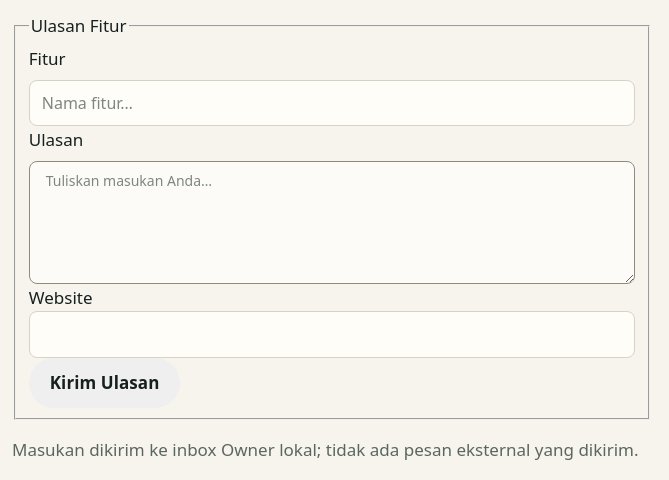
it: Prompt 03 — form simulasi › mengirim data fiktif dengan idempotency key dan menampilkan sukses
Type "Fitur contoh" into the field labelled "Fitur" at point(332, 103), box [29,80,635,126]
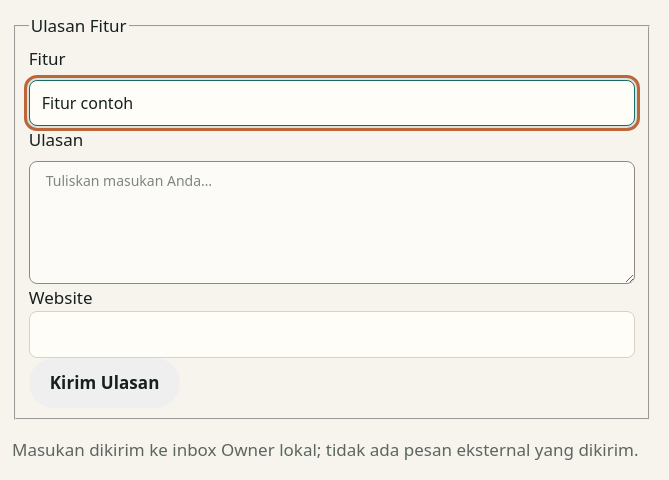
Type "Ulasan fiktif untuk pengujian lokal." into the text box labelled "Ulasan" at point(332, 222), box [29,161,635,284]
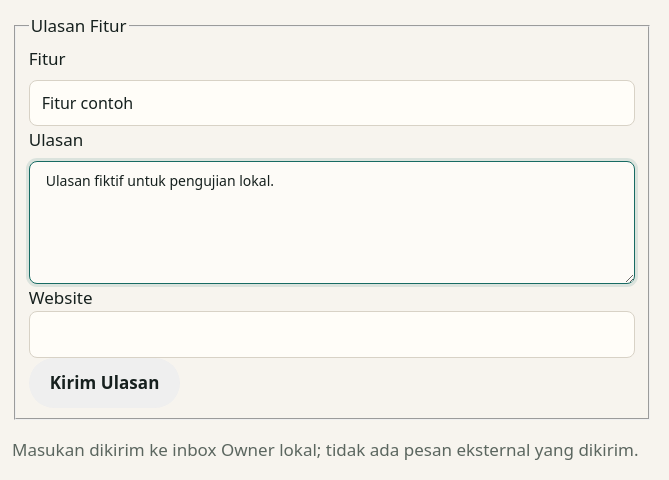
Click the button "Kirim Ulasan" at point(105, 383), box [29,358,180,408]
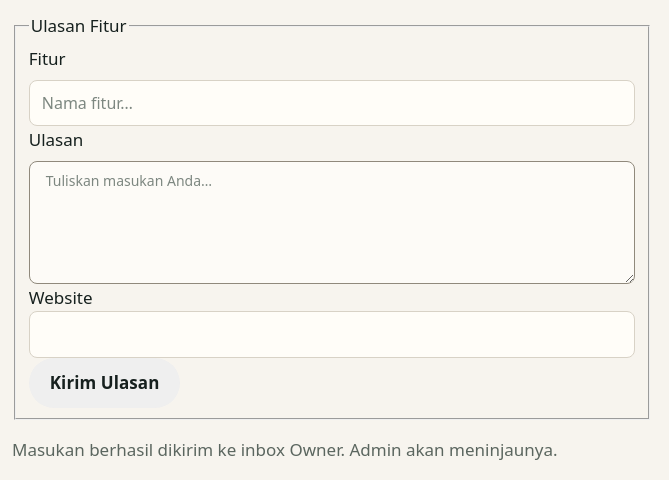
Now the text "Masukan berhasil dikirim ke inbox Owner. Admin akan meninjaunya." is shown, box [12,436,652,463]
